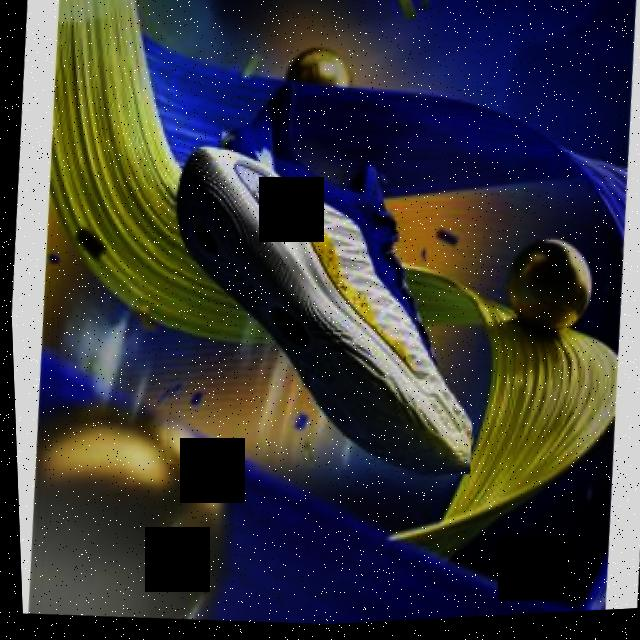shoe: (145, 68, 499, 492)
